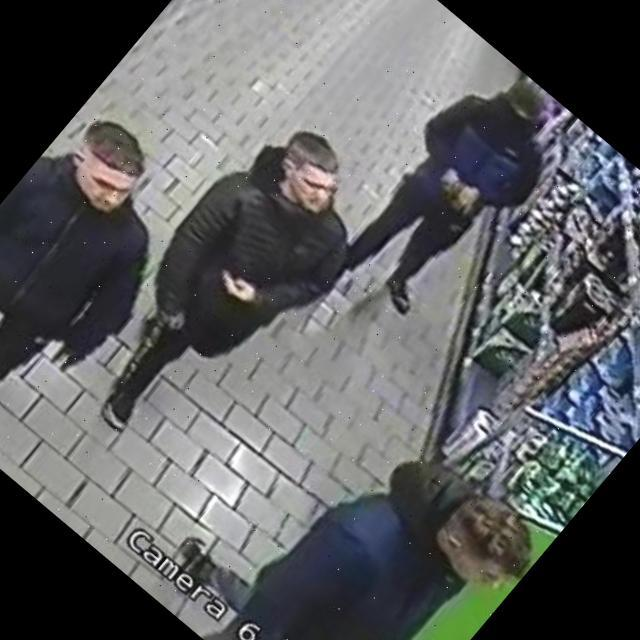person: (49, 101, 405, 484), (138, 354, 554, 640), (0, 95, 221, 467), (313, 48, 587, 338)
